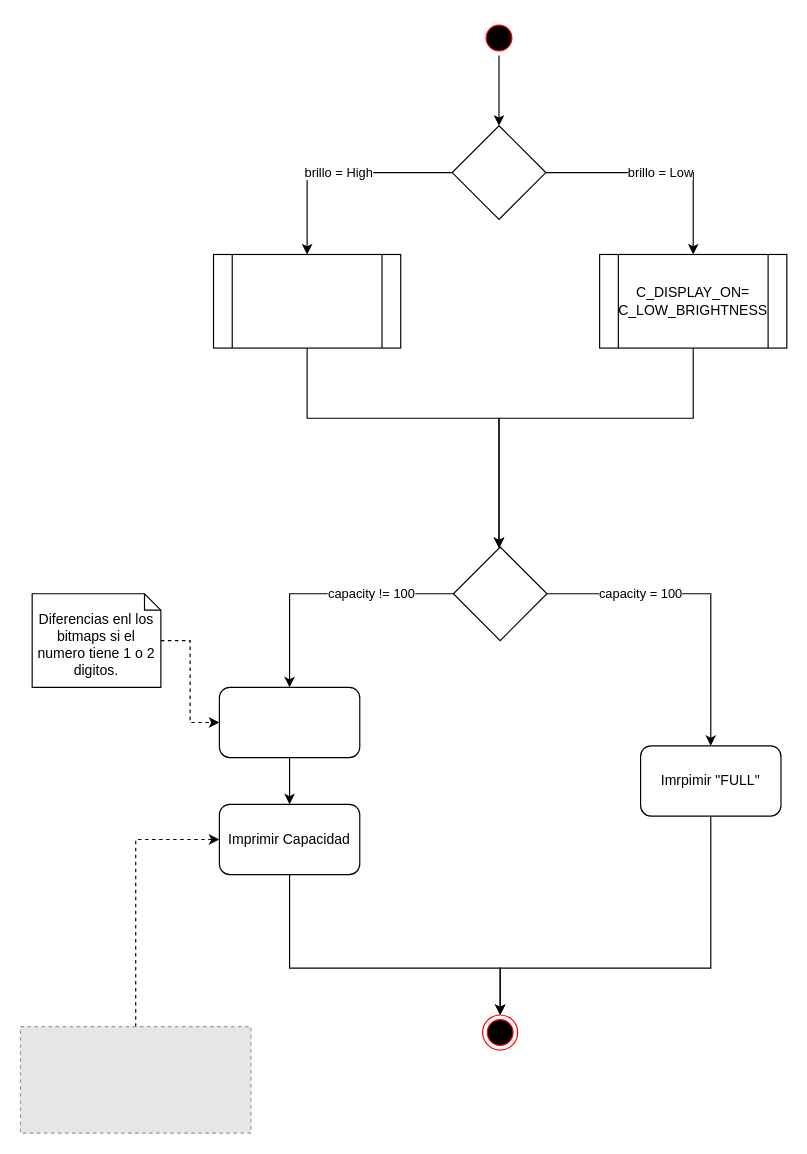
Image size: 807x1154. Some labels were removed from this diagram. Grey dashed boxes stand in for pictures. The centre of each missing label's shape, as x and y in pixels:
C_DISPLAY_ON= C_HIGH_BRIGHTNESS: [306,300]
Convertir a bit map: [289,722]
